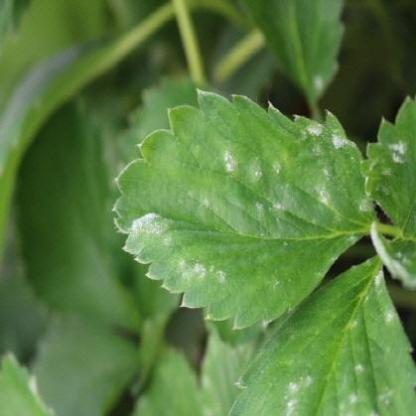Strawberry_Powdery_Mildew_Leaf: (110, 86, 378, 330), (226, 253, 415, 415), (358, 94, 416, 290)
